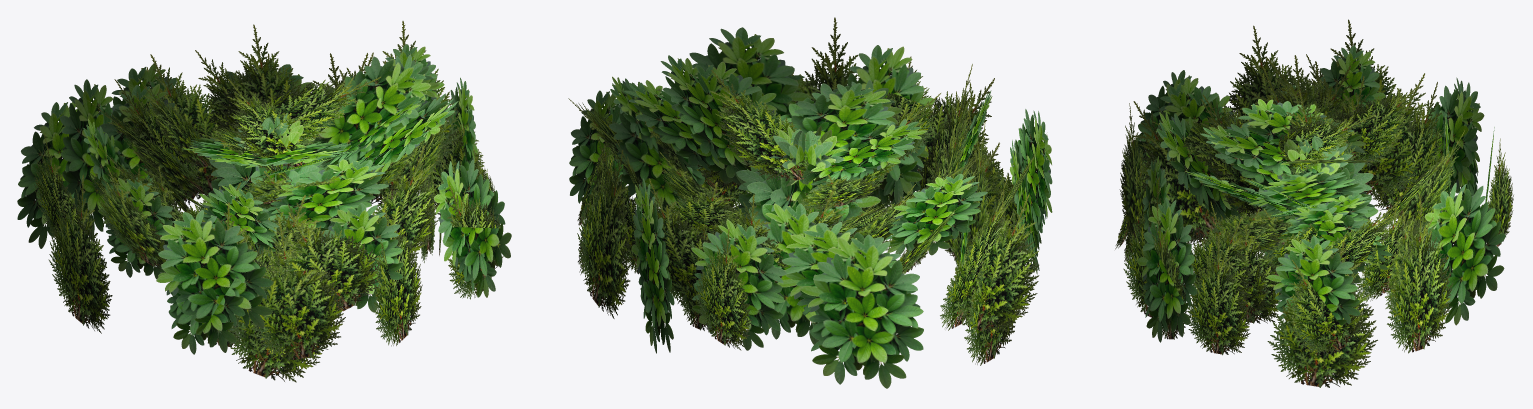
The model's file is bush_leafy_02.gltf.
The picture shows the model from 3 angles, left to right: view 1: azimuth 30°, elevation 25°; view 2: azimuth 150°, elevation 25°; view 3: azimuth 270°, elevation 25°; orthographic projection. The views are drawn at different scales.
Visible parts, largest first — view 1: bush_leafy_02; view 2: bush_leafy_02; view 3: bush_leafy_02.
Part boxes in pixels (x1,y1,x2,y2): bush_leafy_02: (17,21,511,382); bush_leafy_02: (568,17,1052,388); bush_leafy_02: (1115,19,1513,387).
Size of the model in its own units: 1.42 by 0.7044 by 1.24.
1 material, 1 textured.
